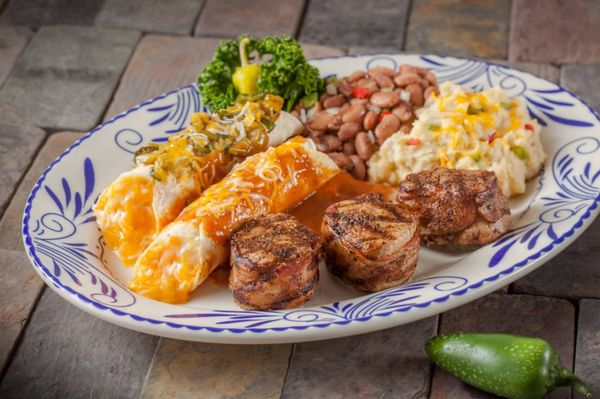curry: (196, 32, 323, 115)
